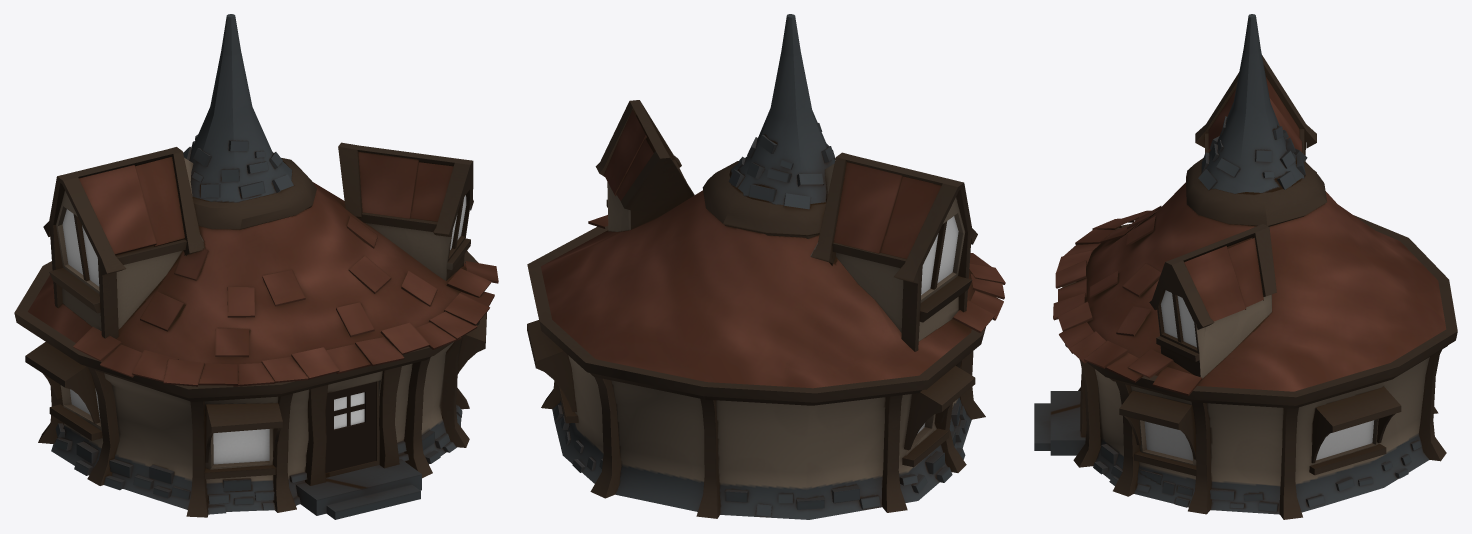
The model's file is WitchHutRetopologised.fbx.
3 renders of one model, left to right at view 1: azimuth 30°, elevation 25°; view 2: azimuth 150°, elevation 25°; view 3: azimuth 270°, elevation 25°, orthographic. The views are drawn at different scales.
Visible parts, largest first — view 1: WitchHutRoof, WitchHutBody, WitchHutDoor; view 2: WitchHutRoof, WitchHutBody; view 3: WitchHutRoof, WitchHutBody.
Part boxes in pixels (x1,y1,x2,y2): WitchHutRoof: [28, 14, 498, 386]; WitchHutBody: [14, 251, 486, 519]; WitchHutDoor: [325, 381, 379, 477]; WitchHutRoof: [540, 14, 1005, 388]; WitchHutBody: [527, 226, 985, 519]; WitchHutRoof: [1053, 14, 1446, 395]; WitchHutBody: [1034, 215, 1457, 519].
Size of the model in its own units: 1722 by 1681 by 1604.
